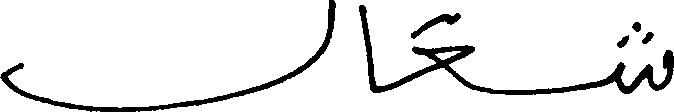ا: (355, 3, 377, 94)
ش: (592, 11, 672, 96)
ع: (405, 36, 478, 88)
ل: (0, 0, 343, 111)
